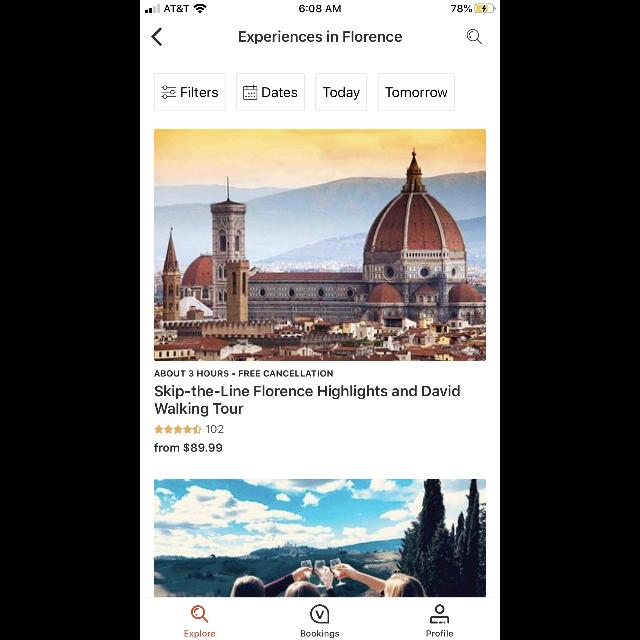icon: (154, 424, 202, 434), (430, 604, 450, 624), (192, 606, 208, 622), (466, 30, 482, 44), (152, 28, 162, 46)
image: (156, 129, 487, 361), (154, 479, 486, 597), (310, 604, 330, 624)
text: (154, 385, 460, 417), (240, 31, 402, 45), (155, 369, 333, 376), (155, 443, 223, 453), (301, 630, 339, 638), (184, 630, 216, 638), (426, 630, 454, 636), (206, 425, 224, 433)
textbutton: (378, 73, 454, 111), (154, 73, 226, 111), (237, 73, 306, 111), (315, 73, 367, 111)
uppertaskbar: (140, 0, 500, 14)
